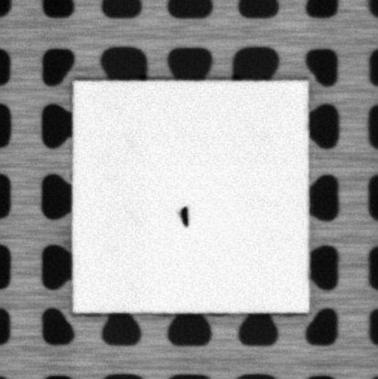DIE_INK: (177, 203, 190, 228)
